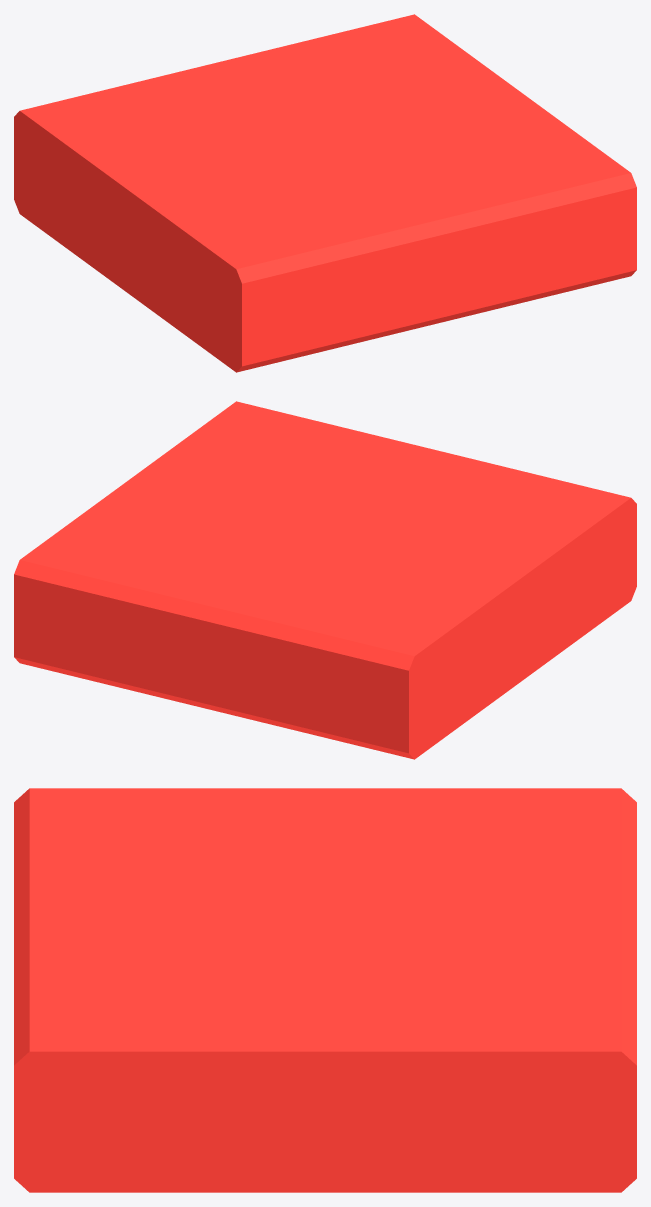
File: Bridge_01.glb
The picture shows the model from 3 angles, top to bottom: view 1: azimuth 30°, elevation 25°; view 2: azimuth 150°, elevation 25°; view 3: azimuth 270°, elevation 25°; orthographic projection. The views are drawn at different scales.
Visible parts, largest first — view 1: Bridge_01; view 2: Bridge_01; view 3: Bridge_01.
Boxes of the visible parts, x1,y1,x2,y2 form: Bridge_01: (14,14,636,372); Bridge_01: (14,401,636,759); Bridge_01: (14,788,636,1192).
Size of the model in its own units: 4 by 1 by 4.
1 material, 1 textured.
